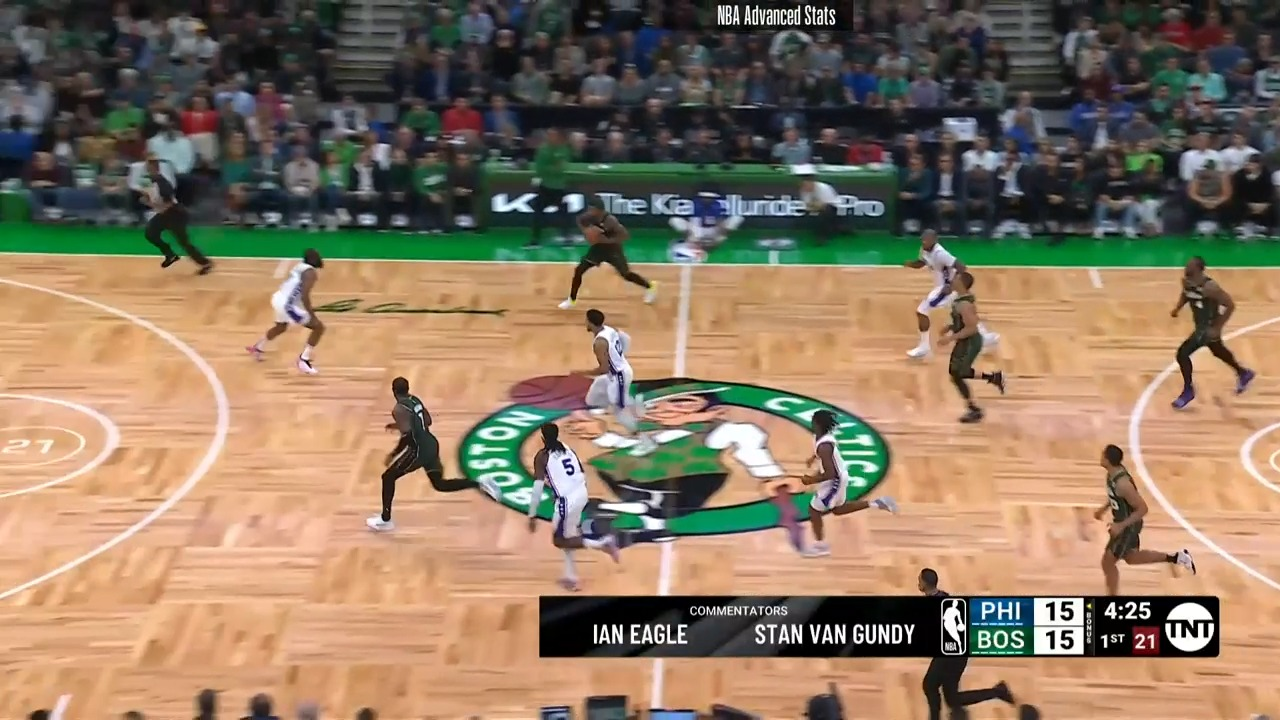player: (366, 376, 497, 538), (524, 413, 627, 593), (1082, 440, 1203, 592), (783, 408, 892, 560), (1155, 255, 1252, 412), (243, 248, 338, 380), (564, 308, 651, 449), (559, 189, 658, 311), (935, 275, 1009, 424), (910, 231, 987, 363)
referee: (126, 139, 222, 283)
